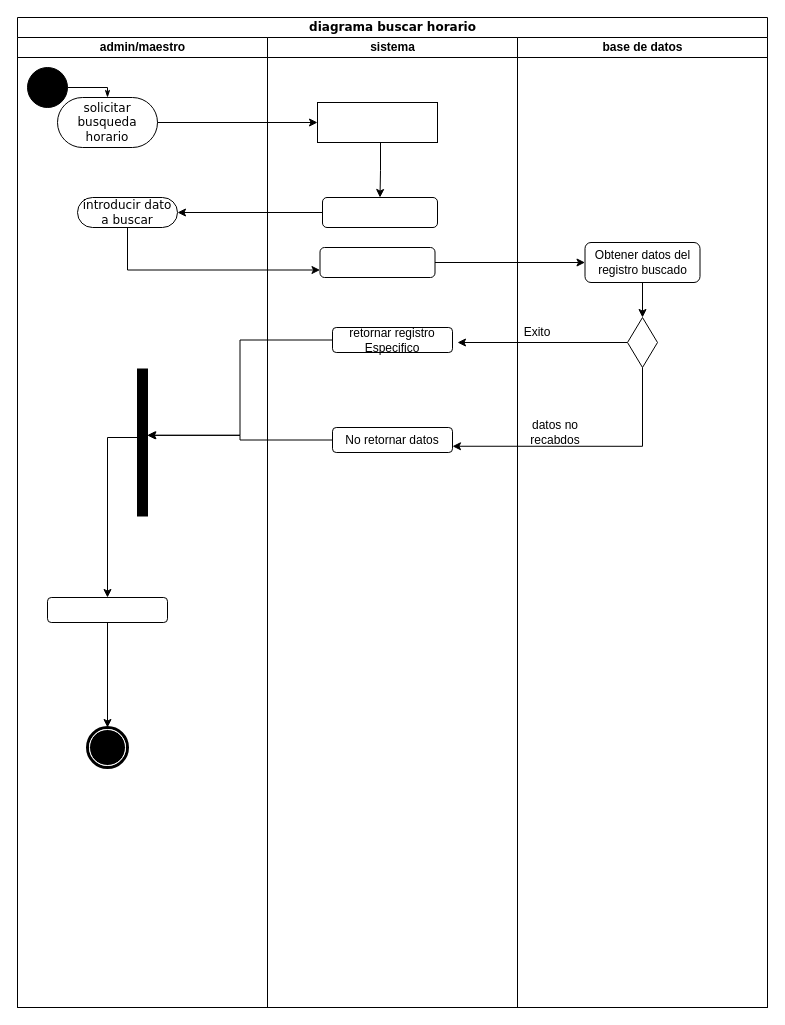
This 785x1025 diagram has some shape labels left out. The centre of each missing label's shape, as x and y in pixels:
Mostrar infrmacion: pixel 107 609
Mostrar Interfaz: pixel 377 122
mostrar registros exitentes: pixel 380 212
solictud de busqueda horario: pixel 377 262
